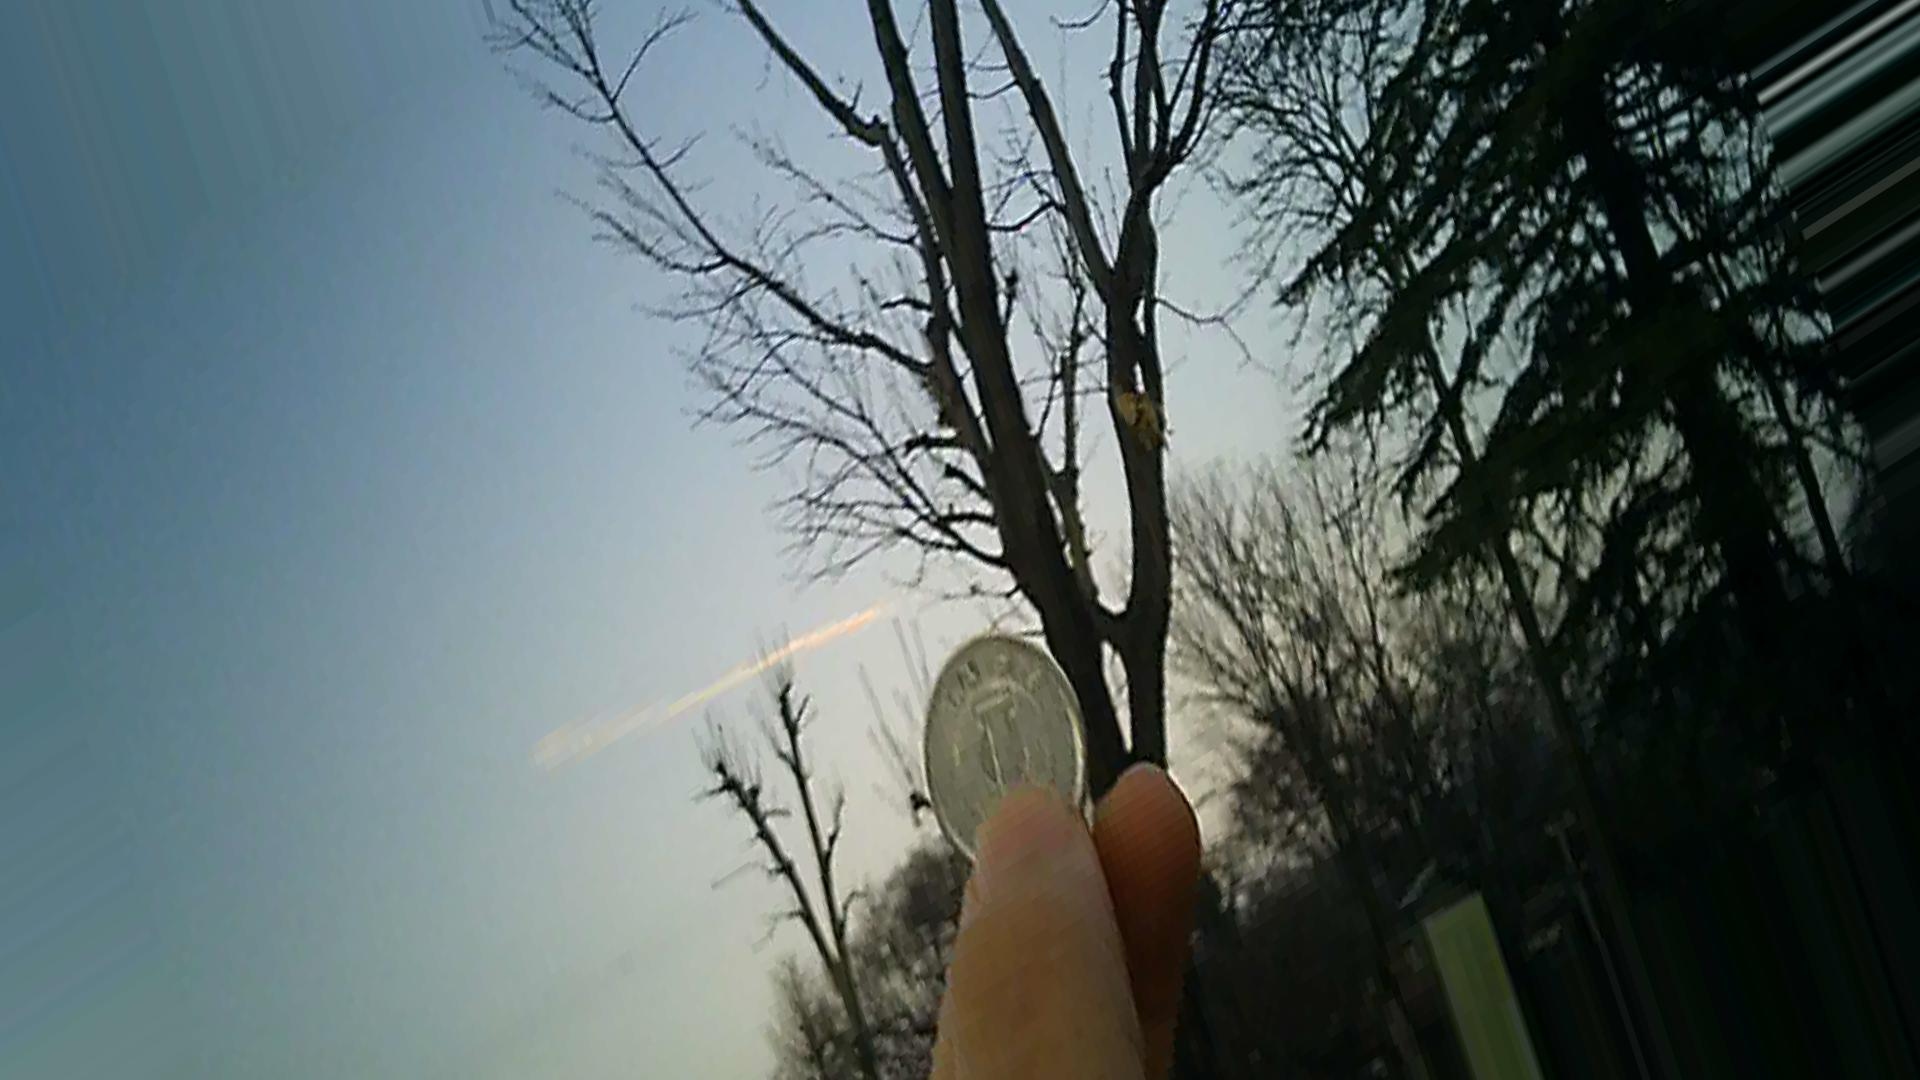1 Yen: (918, 628, 1112, 878)
